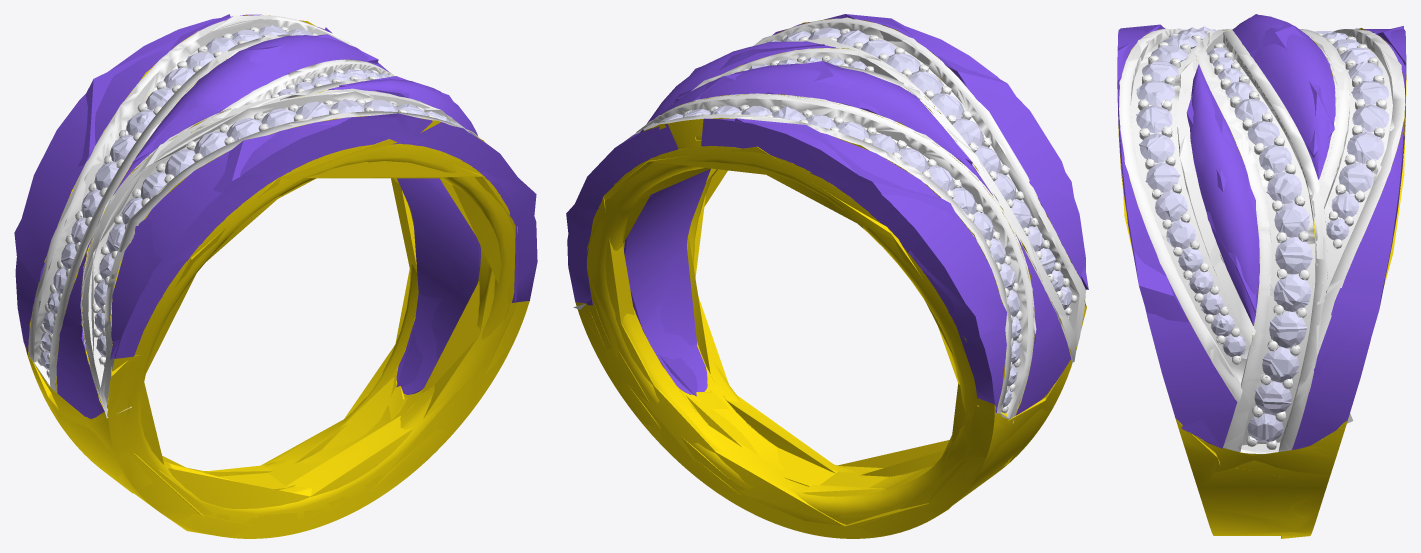
File: DLR-D000677783_hub.glb
3 renders of one model, left to right at view 1: azimuth 30°, elevation 25°; view 2: azimuth 150°, elevation 25°; view 3: azimuth 270°, elevation 25°, orthographic. The views are drawn at different scales.
Parts seen in each view (by area): view 1: highPolyMesh, lowPolyMesh; view 2: highPolyMesh, lowPolyMesh; view 3: highPolyMesh, lowPolyMesh.
Part boxes in pixels (x1,y1,x2,y2): highPolyMesh: [15, 14, 537, 538]; lowPolyMesh: [14, 14, 536, 536]; highPolyMesh: [567, 18, 1085, 538]; lowPolyMesh: [566, 14, 1088, 538]; highPolyMesh: [1117, 15, 1406, 535]; lowPolyMesh: [1117, 14, 1406, 538].
Bounding box in the file's own units: 0.0221 × 0.0227 × 0.0124.
